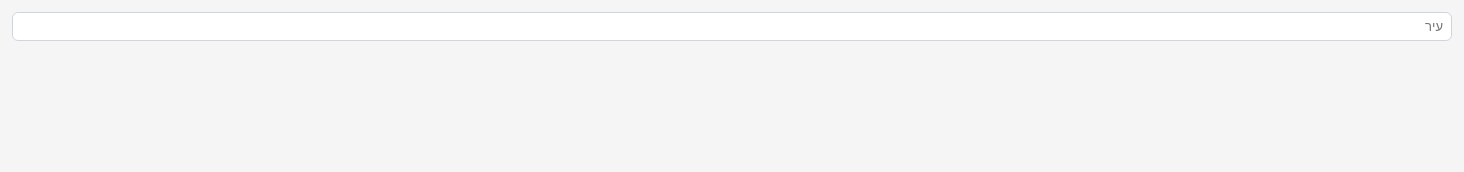
Combobox › shows all options on focus
The image size is (1464, 172).
Focus the dropdown with placeholder "עיר" at (732, 26), box [12,12,1452,41]
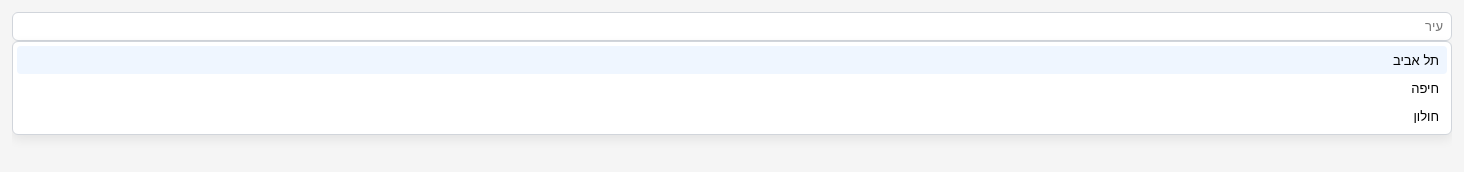
Now the option "תל אביב" is shown, box [17,46,1447,74]
Now the option "חיפה" is shown, box [17,74,1447,102]
